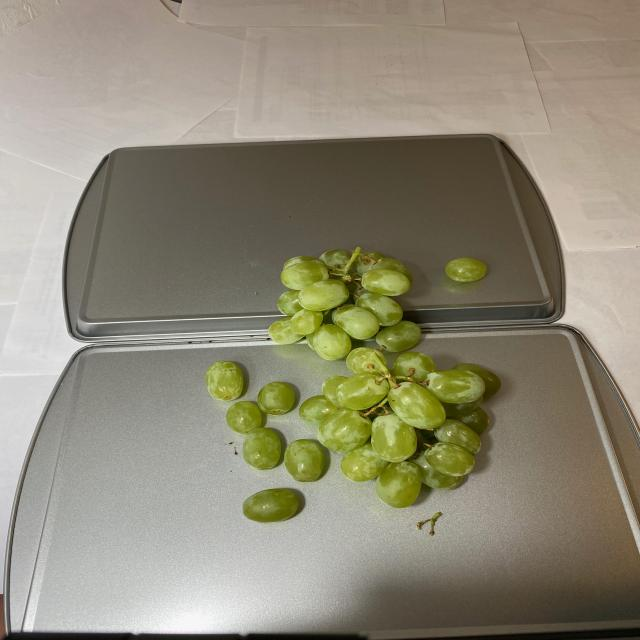Grapes: (208, 250, 496, 525)
